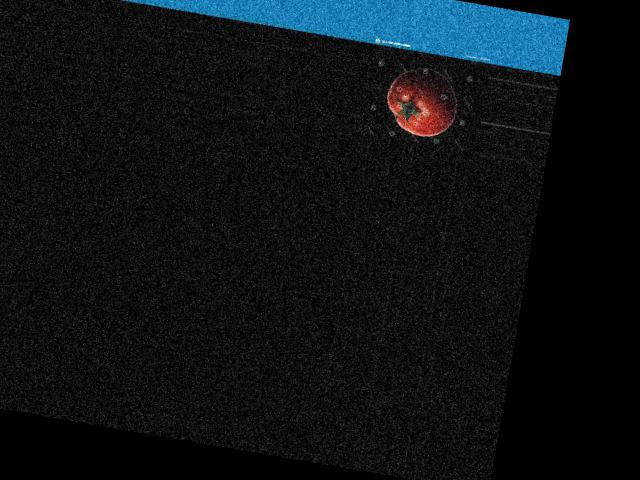tomato: (381, 62, 463, 141)
